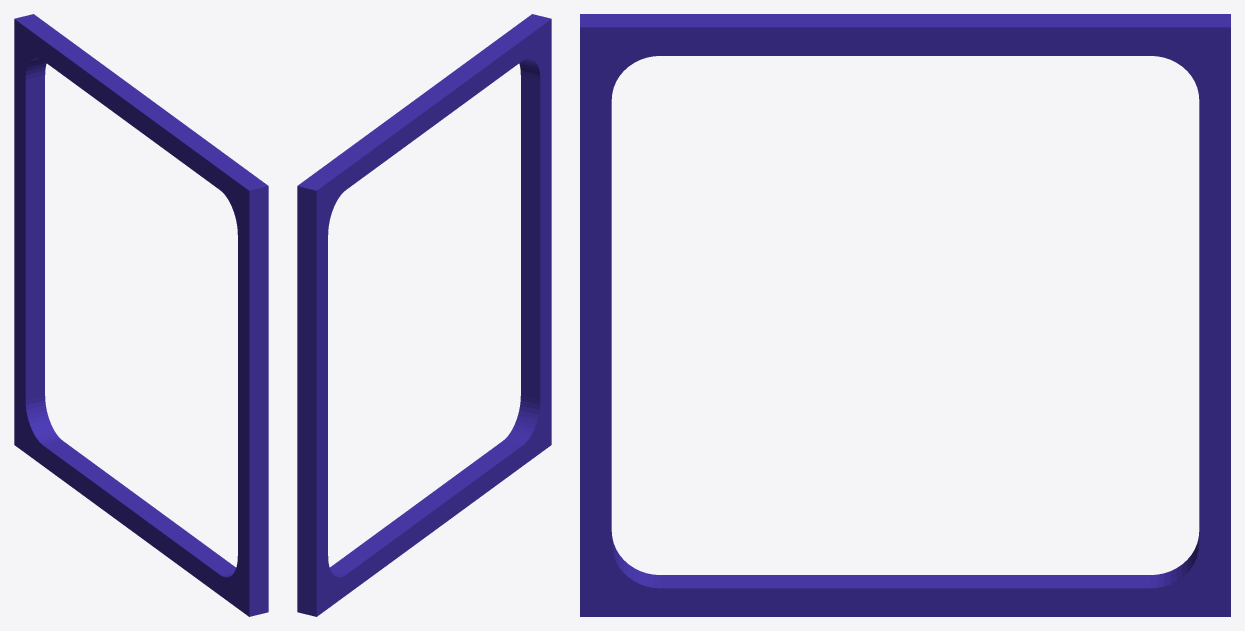
File: challange5.dae
3 views of the same model, side by side, from view 1: azimuth 30°, elevation 25°; view 2: azimuth 150°, elevation 25°; view 3: azimuth 270°, elevation 25° (orthographic). The views are drawn at different scales.
Parts seen in each view (by area): view 1: Challange 5; view 2: Challange 5; view 3: Challange 5.
Part boxes in pixels (<box>): Challange 5: <box>14,14,268,616</box>; Challange 5: <box>297,14,551,616</box>; Challange 5: <box>580,14,1230,616</box>.
Size of the model in its own units: 0.1139 by 2.37 by 2.37.
